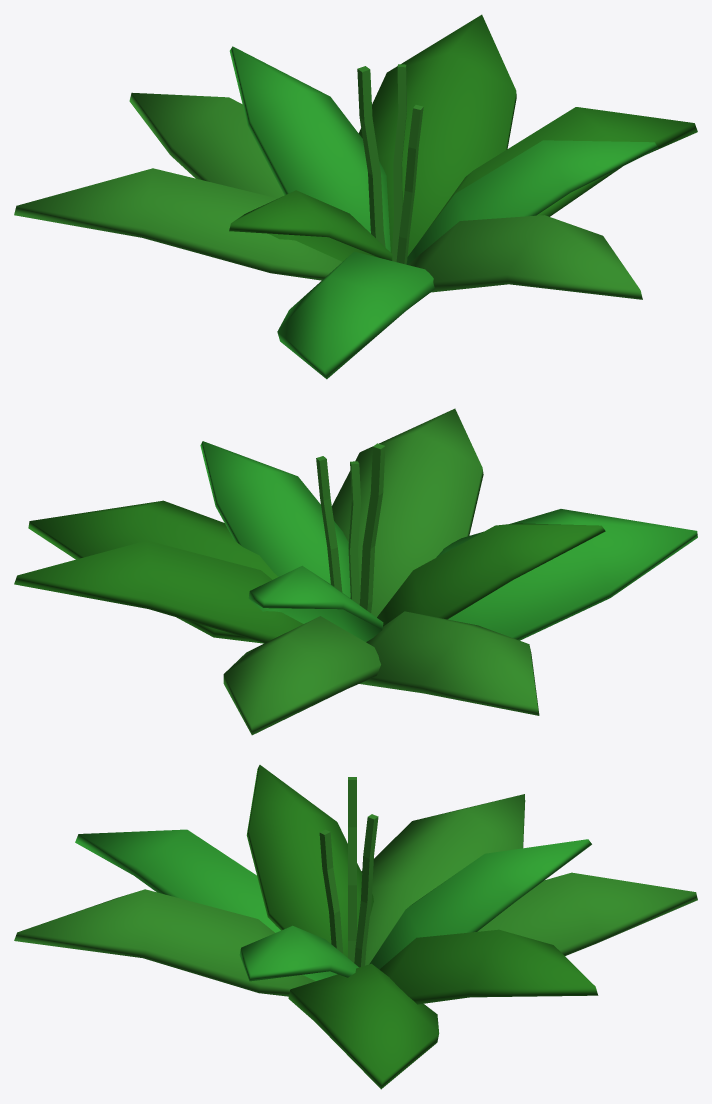
File: Leaf_Plant_DarkGreen_2.fbx
The picture shows the model from 3 angles, top to bottom: view 1: azimuth 30°, elevation 25°; view 2: azimuth 150°, elevation 25°; view 3: azimuth 270°, elevation 25°; orthographic projection. The views are drawn at different scales.
Visible parts, largest first — view 1: Plane.292, Plane.286, Plane.293, Plane.285, Plane.289, Plane.294, Plane.287, Plane.288, Plane.295, Cube.417, Cube.415, Cube.416; view 2: Plane.285, Plane.292, Plane.289, Plane.286, Plane.294, Plane.287, Plane.295, Plane.288, Plane.293, Cube.417, Cube.416, Cube.415; view 3: Plane.285, Plane.295, Plane.292, Plane.286, Plane.288, Plane.287, Plane.293, Plane.289, Plane.294, Cube.416, Cube.417, Cube.415.
Boxes of the visible parts, left/top/right/bottom form: Plane.292: left=358, top=14, right=516, bottom=256; Plane.286: left=14, top=168, right=341, bottom=280; Plane.293: left=229, top=46, right=390, bottom=251; Plane.285: left=408, top=215, right=642, bottom=299; Plane.289: left=277, top=251, right=434, bottom=379; Plane.294: left=406, top=140, right=658, bottom=264; Plane.287: left=129, top=92, right=284, bottom=198; Plane.288: left=419, top=107, right=697, bottom=240; Plane.295: left=229, top=190, right=392, bottom=261; Cube.417: left=357, top=66, right=385, bottom=247; Cube.415: left=396, top=105, right=423, bottom=264; Cube.416: left=392, top=64, right=406, bottom=261; Plane.285: left=332, top=408, right=483, bottom=617; Plane.292: left=14, top=540, right=303, bottom=643; Plane.289: left=436, top=509, right=697, bottom=640; Plane.286: left=359, top=611, right=539, bottom=715; Plane.294: left=200, top=441, right=350, bottom=597; Plane.287: left=223, top=616, right=380, bottom=735; Plane.295: left=377, top=523, right=605, bottom=626; Plane.288: left=28, top=500, right=278, bottom=643; Plane.293: left=248, top=565, right=383, bottom=641; Cube.417: left=359, top=443, right=385, bottom=612; Cube.416: left=316, top=456, right=342, bottom=592; Cube.415: left=348, top=461, right=361, bottom=604; Plane.285: left=14, top=889, right=315, bottom=996; Plane.295: left=246, top=765, right=373, bottom=957; Plane.292: left=379, top=929, right=598, bottom=1004; Plane.286: left=361, top=794, right=525, bottom=965; Plane.288: left=288, top=963, right=439, bottom=1089; Plane.287: left=477, top=872, right=697, bottom=955; Plane.293: left=369, top=839, right=591, bottom=969; Plane.289: left=75, top=829, right=280, bottom=932; Plane.294: left=239, top=925, right=358, bottom=981; Cube.416: left=354, top=814, right=378, bottom=967; Cube.417: left=348, top=777, right=356, bottom=962; Cube.415: left=319, top=829, right=343, bottom=953.
Bounding box in the file's own units: 171 × 60.93 × 177.
